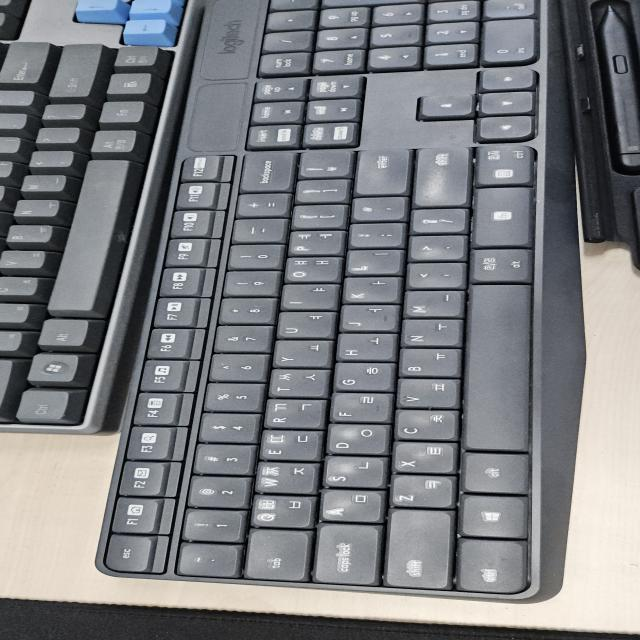Keyboard: (3, 0, 635, 611)
